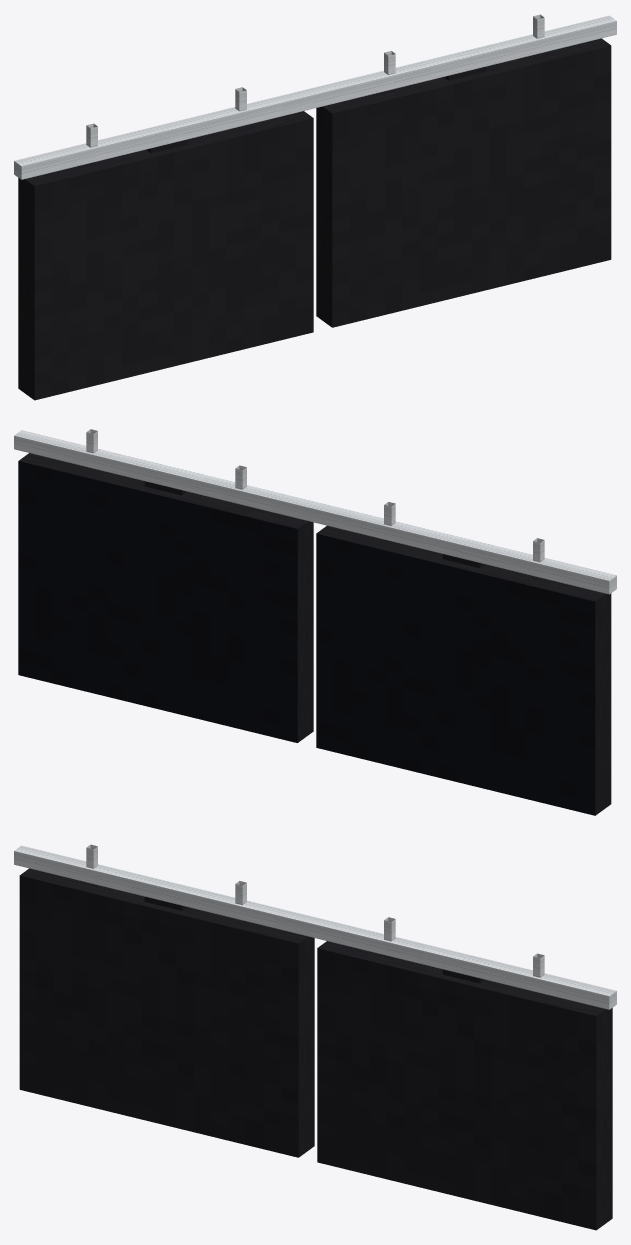
File: monitor.obj
3 views of the same model, one above another, from view 1: azimuth 30°, elevation 25°; view 2: azimuth 150°, elevation 25°; view 3: azimuth 330°, elevation 25° (orthographic).
Visible parts, largest first — view 1: monitor; view 2: monitor; view 3: monitor.
Part boxes in pixels (box(x1,y1,x2,y2)): monitor: box(14, 14, 616, 400); monitor: box(14, 429, 616, 815); monitor: box(14, 844, 616, 1230).
Size of the model in its own units: 4 by 1.62 by 0.1875.
